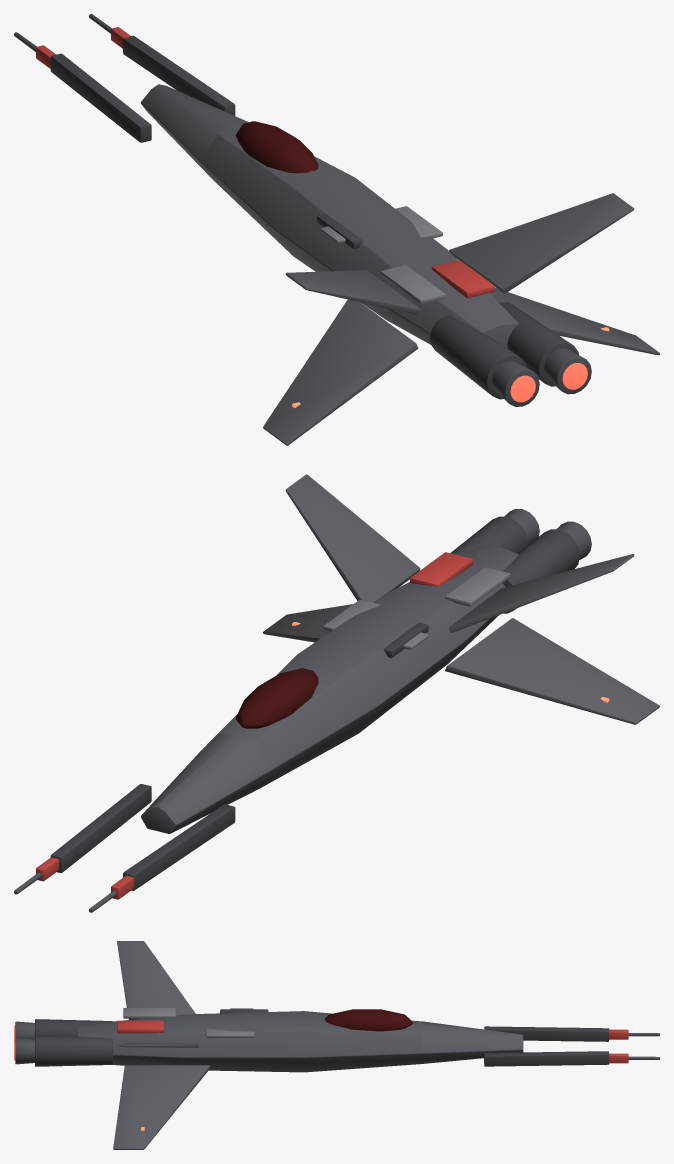
The model's file is enemy_jackal.glb.
3 views of the same model, one above another, from view 1: azimuth 30°, elevation 25°; view 2: azimuth 150°, elevation 25°; view 3: azimuth 270°, elevation 25° (orthographic). The views are drawn at different scales.
Visible parts, largest first — view 1: EnemyJackal; view 2: EnemyJackal; view 3: EnemyJackal.
Part boxes in pixels (<box>): EnemyJackal: <box>14,14,659,445</box>; EnemyJackal: <box>14,474,659,912</box>; EnemyJackal: <box>14,941,659,1149</box>.
Bounding box in the file's own units: 7.18 × 2.77 × 16.54.
